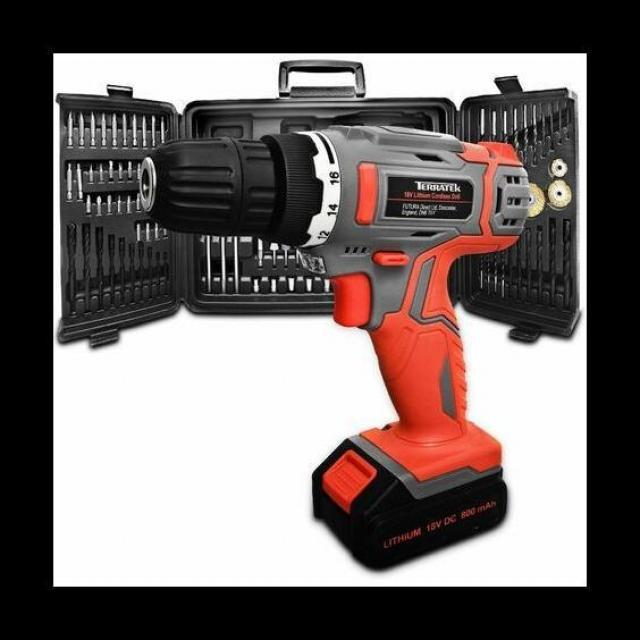drill: (138, 126, 532, 571)
